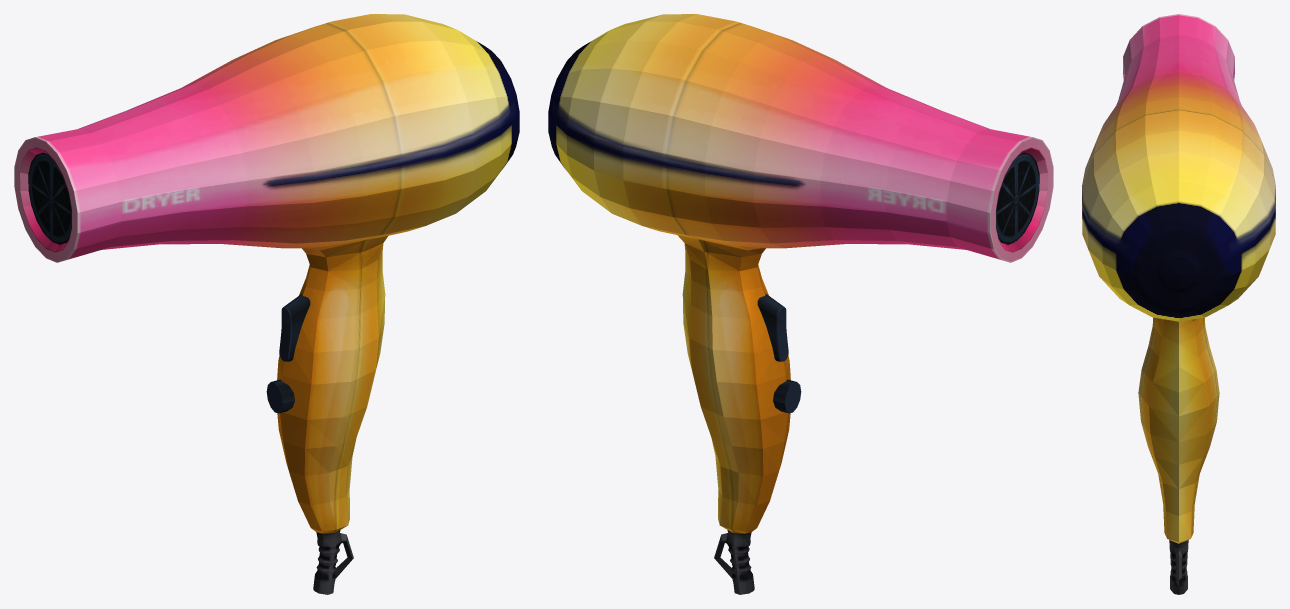
File: hair_drier_001.fbx
3 renders of one model, left to right at view 1: azimuth 30°, elevation 25°; view 2: azimuth 150°, elevation 25°; view 3: azimuth 270°, elevation 25°, orthographic. The views are drawn at different scales.
Parts seen in each view (by area): view 1: hair_drier_001; view 2: hair_drier_001; view 3: hair_drier_001.
Boxes of the visible parts, left/top/right/bottom form: hair_drier_001: left=14, top=14, right=519, bottom=594; hair_drier_001: left=548, top=14, right=1053, bottom=594; hair_drier_001: left=1082, top=14, right=1275, bottom=594.
Bounding box in the file's own units: 14.36 × 16.57 × 5.92.
